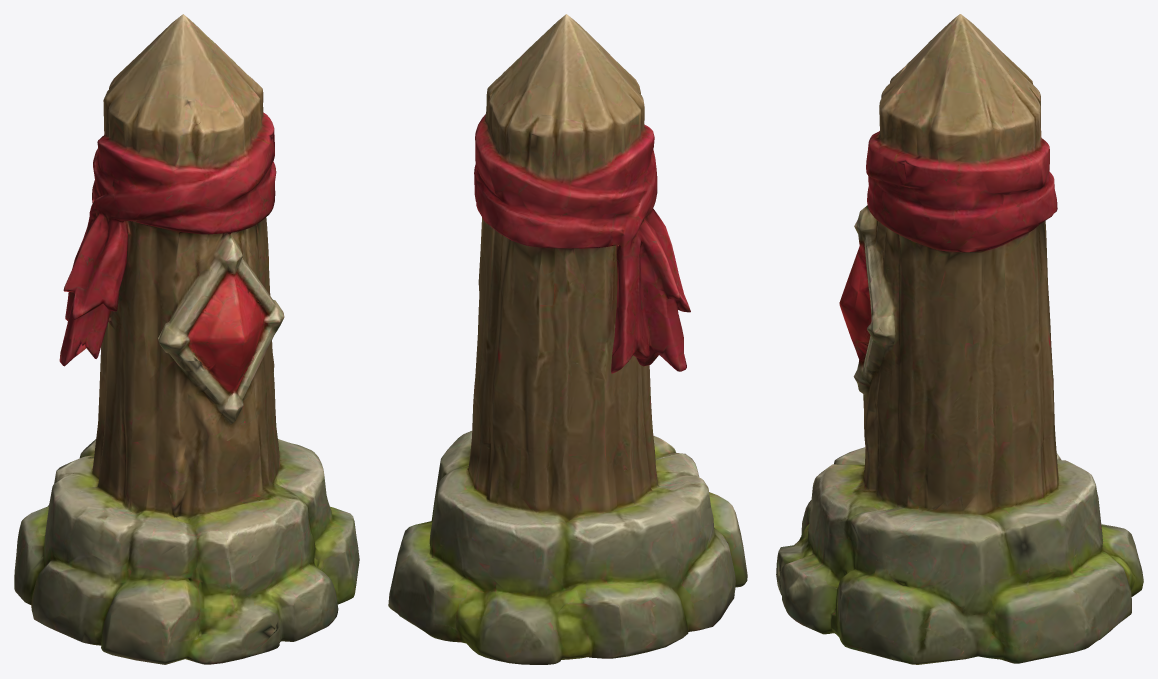
The model's file is route-marker.glb.
3 renders of one model, left to right at view 1: azimuth 30°, elevation 25°; view 2: azimuth 150°, elevation 25°; view 3: azimuth 270°, elevation 25°, orthographic.
Size of the model in its own units: 1.04 by 1.91 by 1.09.
Materials: 1 (1 with a texture image).
